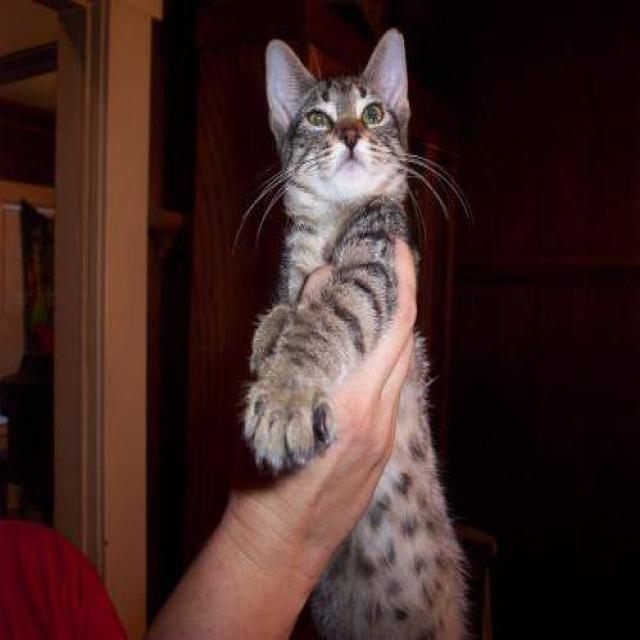cat: (231, 26, 476, 638)
